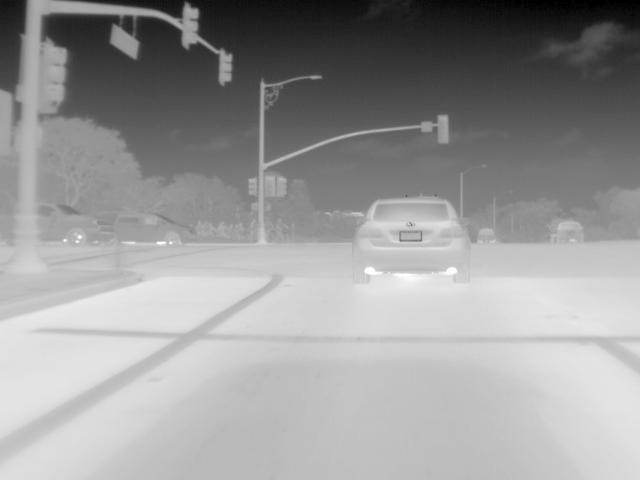car: (348, 193, 475, 283), (35, 200, 119, 248), (111, 210, 199, 247), (554, 218, 586, 246), (475, 226, 499, 245)
person: (274, 218, 290, 238), (246, 216, 260, 234), (215, 222, 230, 238)
